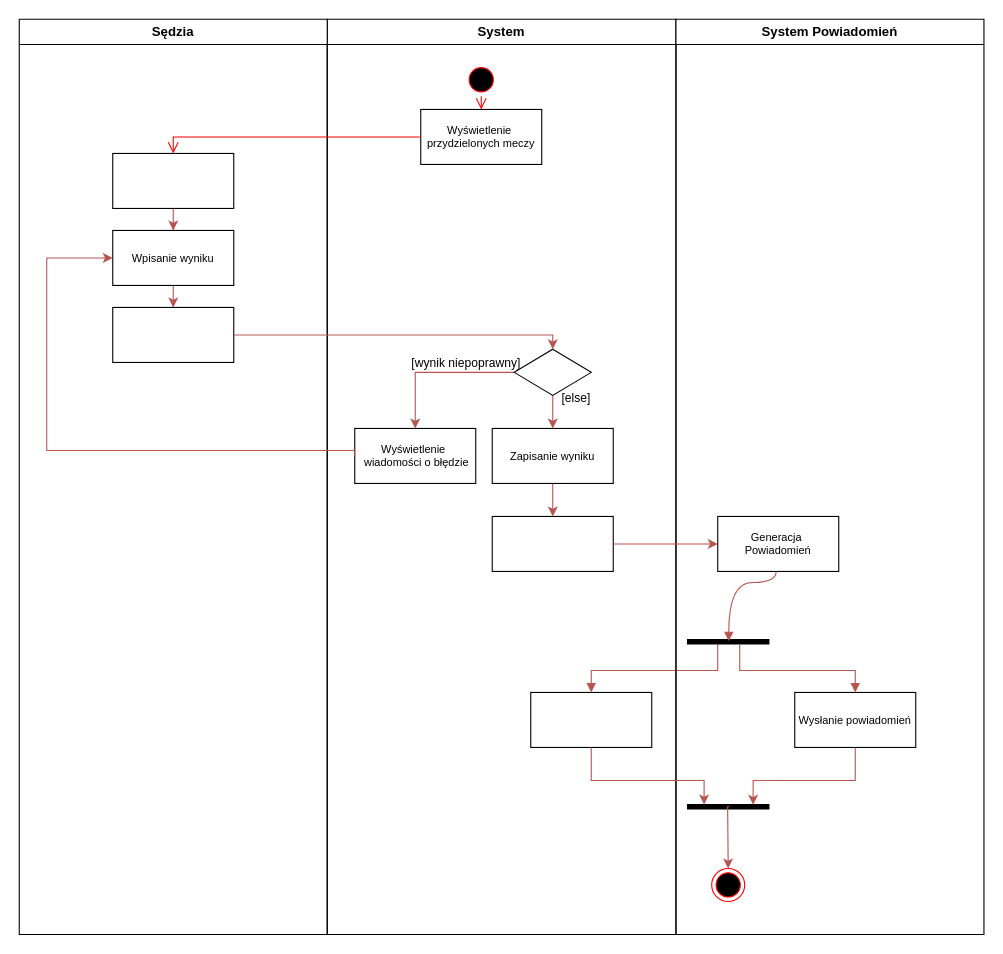
Image size: 1003x954. Some labels were removed from this diagram. Here are the shapes that lost their labels. From the top down, the centre of each, then its label:
At pixel 173 180: "Wybranie meczu".
At pixel 173 334: "Zatwierdzenie wyniku".
At pixel 552 543: "Aktualizacja drabinki".
At pixel 591 719: "Wyświetlenie potwierdzenia".
